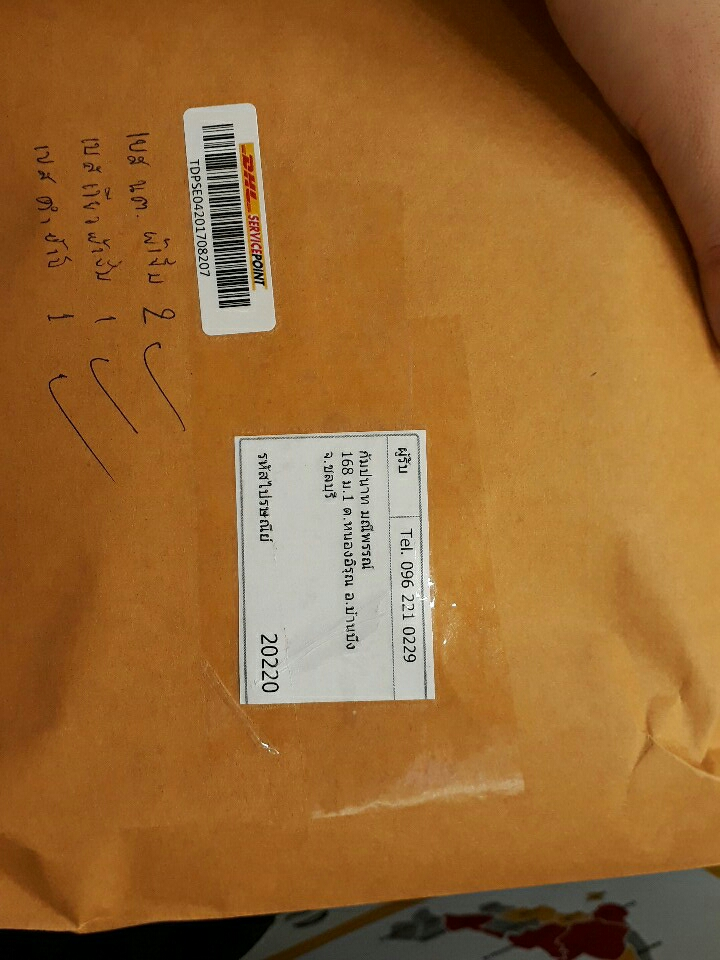ba: (172, 95, 285, 345)
txt: (250, 442, 425, 697)
